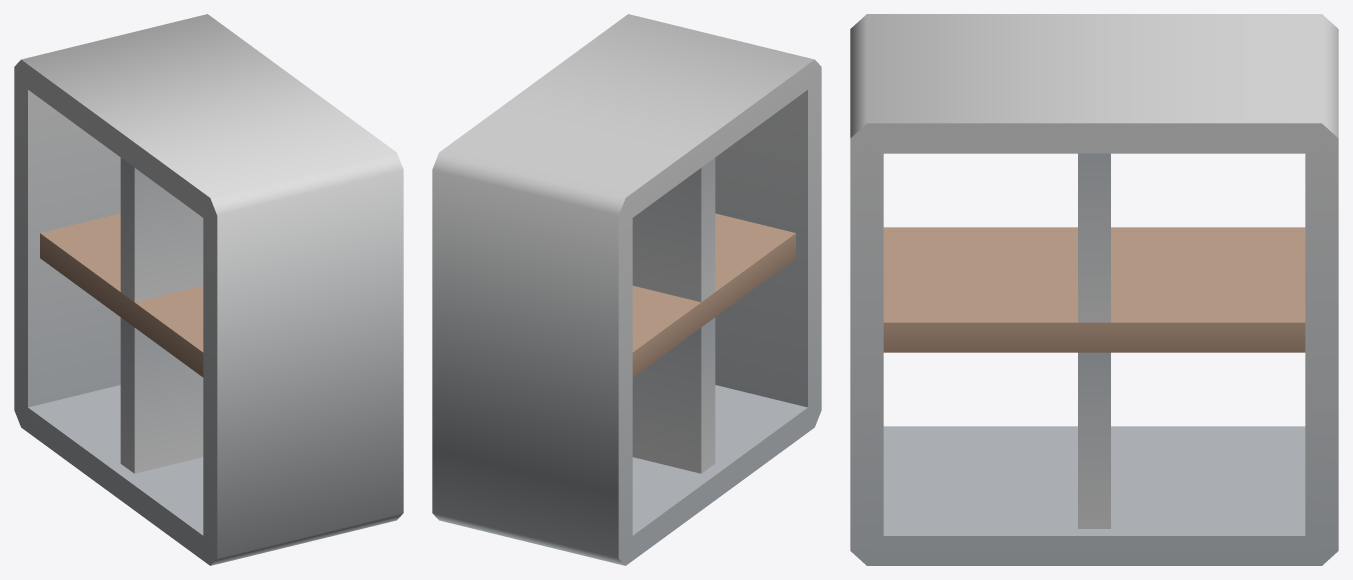
File: cabinet-squares-small.glb
3 views of the same model, side by side, from view 1: azimuth 30°, elevation 25°; view 2: azimuth 150°, elevation 25°; view 3: azimuth 270°, elevation 25° (orthographic). The views are drawn at different scales.
Visible parts, largest first — view 1: cabinet-squares-small; view 2: cabinet-squares-small; view 3: cabinet-squares-small.
Part boxes in pixels (x1,y1,x2,y2): cabinet-squares-small: (14,14,403,565); cabinet-squares-small: (432,14,821,565); cabinet-squares-small: (850,14,1338,565).
Size of the model in its own units: 0.39 by 0.735 by 0.735.
